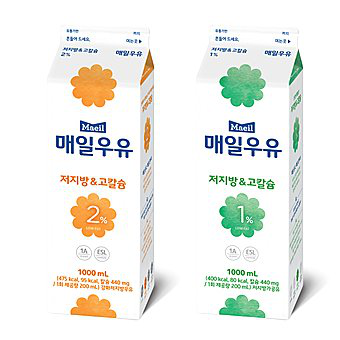milk: (192, 25, 304, 320), (44, 23, 154, 320)
